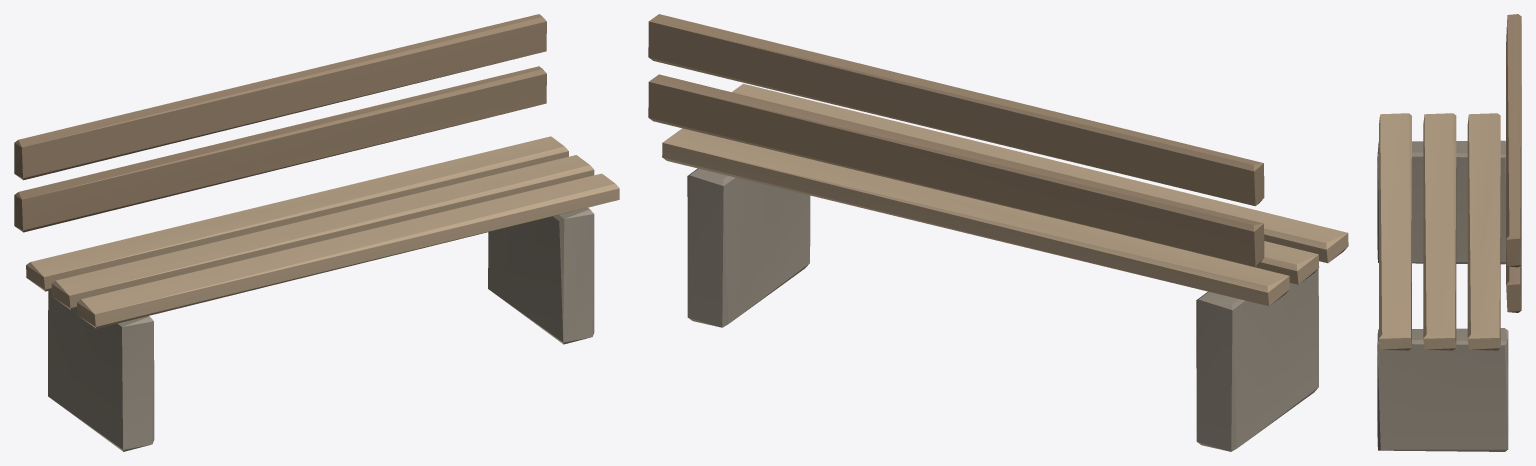
Rendered from bench_waterfront_low.glb.
3 views of the same model, side by side, from view 1: azimuth 30°, elevation 25°; view 2: azimuth 150°, elevation 25°; view 3: azimuth 270°, elevation 25° (orthographic). The views are drawn at different scales.
Bounding box in the file's own units: 1.79 × 0.85 × 0.487.
